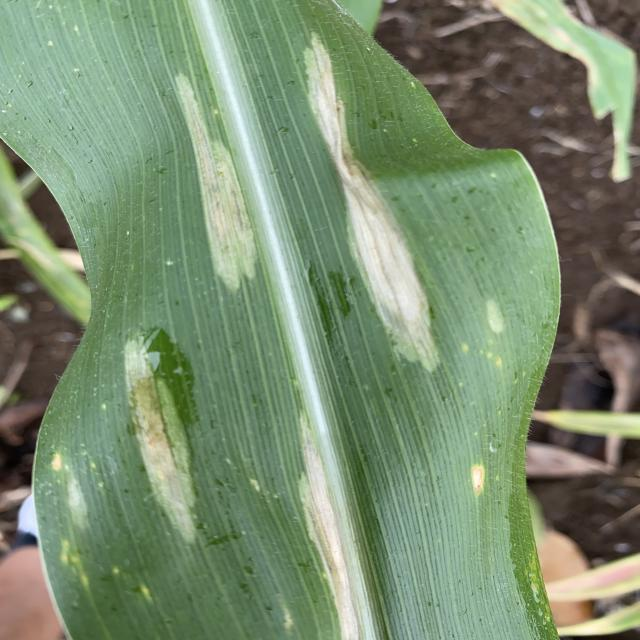Corn_Leaf_Blight: (35, 12, 568, 640)
